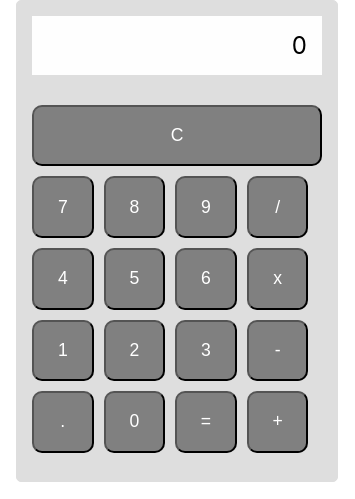
Test: Calculator › should have working multiple operations
This screenshot has width=355, height=499.
Click the button with id "number2": {"x": 135, "y": 351} 104,320 -> 166,382
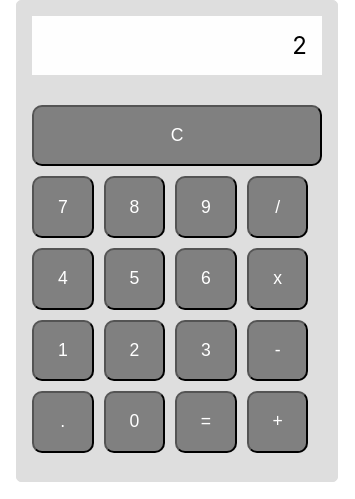
Check: the text with class "display" reads "2", box 292,31 -> 307,60
Click the button with id "operator_multiply": {"x": 278, "y": 279} 247,248 -> 309,310
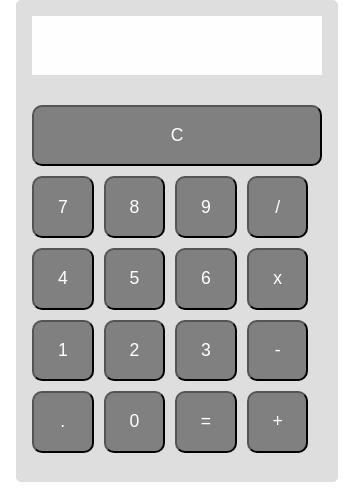
Click the button with id "number3": {"x": 206, "y": 351} 175,320 -> 237,382
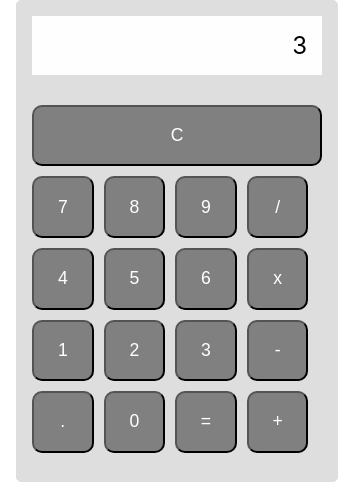
Click the button with id "operator_equals": {"x": 206, "y": 422} 175,391 -> 237,453
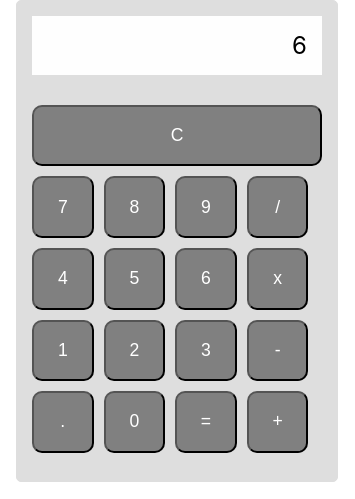
Check: the text with class "display" reads "6", box 292,31 -> 307,60
